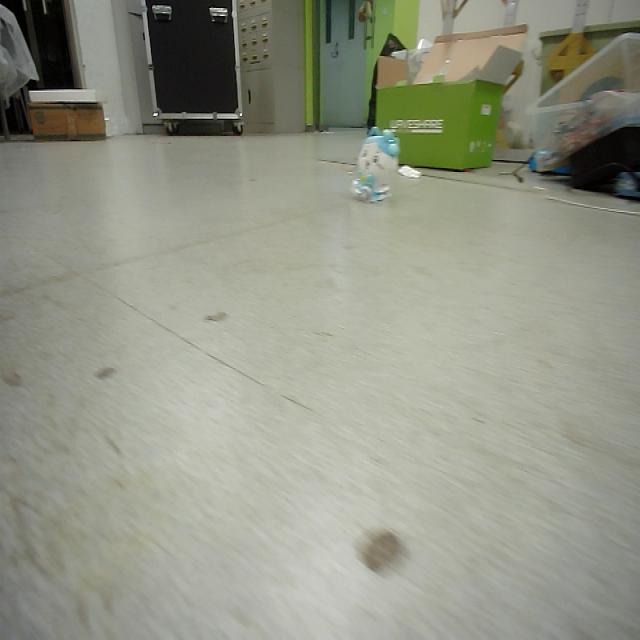xiaoba: (351, 118, 403, 209)
